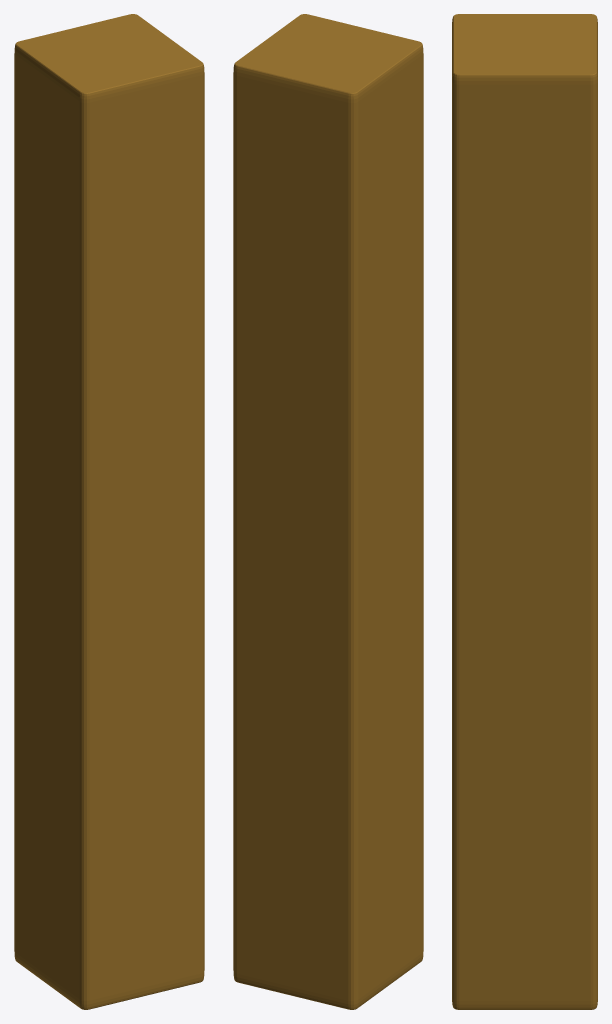
The model's file is WoodenPost.fbx.
The picture shows the model from 3 angles, left to right: view 1: azimuth 30°, elevation 25°; view 2: azimuth 150°, elevation 25°; view 3: azimuth 270°, elevation 25°; orthographic projection. The views are drawn at different scales.
Visible parts, largest first — view 1: Cube.003; view 2: Cube.003; view 3: Cube.003.
Part boxes in pixels (<box>): Cube.003: <box>14,14,204,1009</box>; Cube.003: <box>233,14,423,1009</box>; Cube.003: <box>452,14,597,1009</box>.
Bounding box in the file's own units: 36.56 × 258 × 36.56.
